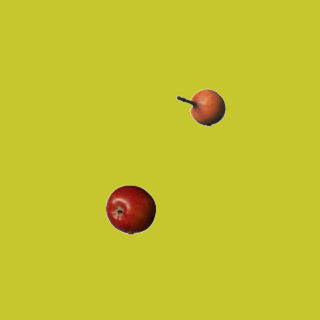Apple Braeburn: (105, 184, 155, 234)
Granadilla: (175, 82, 225, 132)
